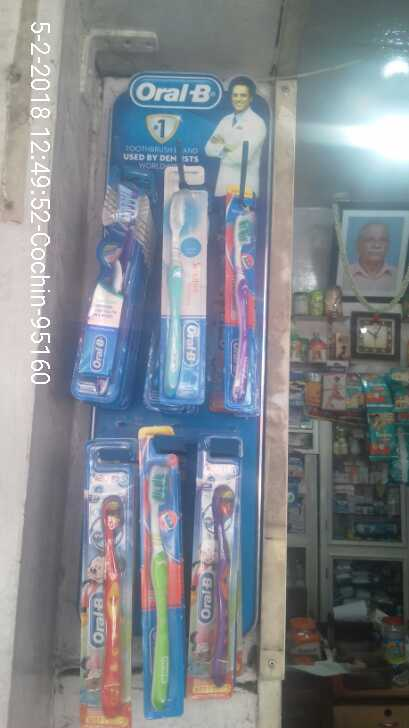oralb: (89, 157, 148, 415), (89, 442, 141, 726), (153, 167, 210, 406), (143, 439, 187, 716), (195, 432, 238, 699), (220, 189, 262, 421), (223, 193, 253, 411)
